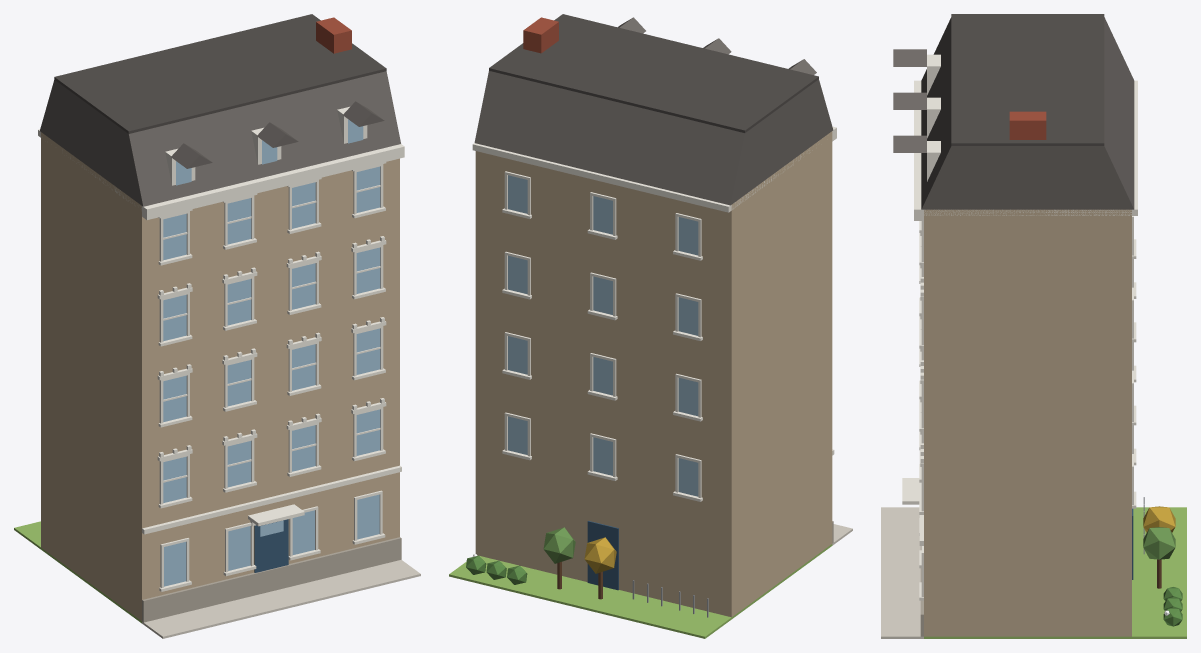
File: Blok_duz_5k_3_Hafif.fbx
The picture shows the model from 3 angles, left to right: view 1: azimuth 30°, elevation 25°; view 2: azimuth 150°, elevation 25°; view 3: azimuth 270°, elevation 25°; orthographic projection. The views are drawn at different scales.
Visible parts, largest first — view 1: Blok_duz_5k_3_Hafif; view 2: Blok_duz_5k_3_Hafif; view 3: Blok_duz_5k_3_Hafif.
Boxes of the visible parts, x1=… form: Blok_duz_5k_3_Hafif: x1=14, y1=14, x2=420, y2=638; Blok_duz_5k_3_Hafif: x1=449, y1=14, x2=852, y2=638; Blok_duz_5k_3_Hafif: x1=881, y1=14, x2=1186, y2=638.
Bounding box in the file's own units: 10 × 18.58 × 10.
